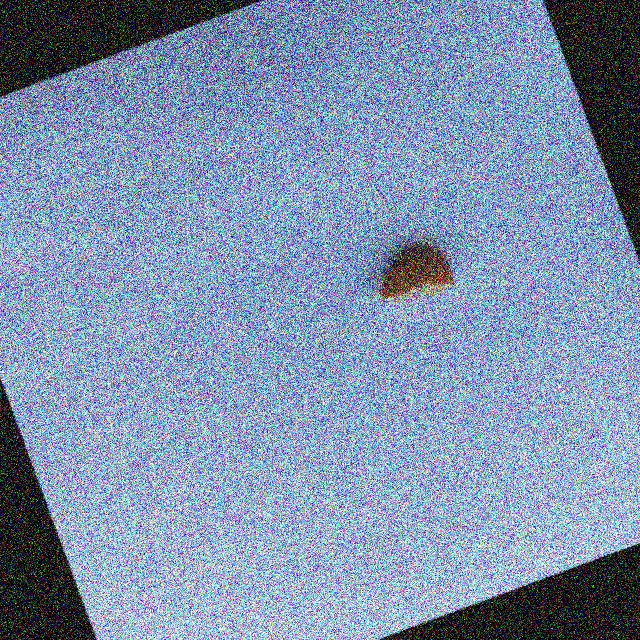grade4: (359, 230, 466, 320)
